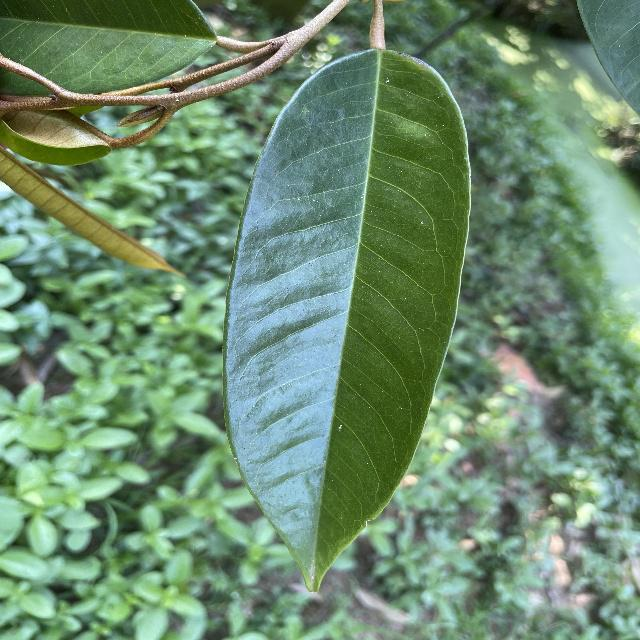No Disease: (209, 43, 482, 592)
